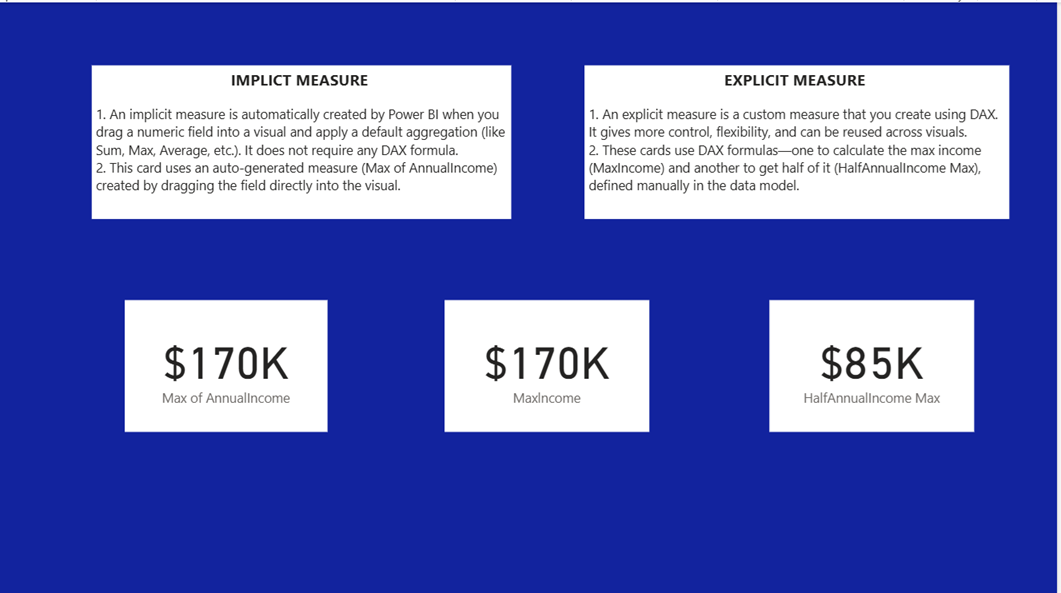

The page's visual inventory and layout, read from the dashboard file:
{"tool":"powerbi","page":{"name":"IMPLICIT & EXPLICIT","canvas":[1280,720],"ordinal":2},"visuals":[{"type":"card","fields":{"Values":["Max(Customers Table.AnnualIncome)"]},"box":[154.4,359.5,244.9,159.3],"z":0},{"type":"card","fields":{"Values":["Customers Table.MaxIncome"]},"box":[540.5,359.5,247.3,159.3],"z":1000},{"type":"card","fields":{"Values":["Customers Table.HalfAnnualIncome Max"]},"box":[932.6,359.5,247.3,159.3],"z":2000},{"type":"textbox","box":[114.6,76,506.7,185.8],"z":3000},{"type":"textbox","box":[709.4,76,512.7,185.8],"z":4000}]}

Visuals, with their boxes in screenshot pixels (x1, y1, x2, y2), scaled from the page's 1280x720 canvas onto the 1061x593 screenshot:
card - Max(Customers Table.AnnualIncome): (128, 296, 331, 427)
card - Customers Table.MaxIncome: (448, 296, 653, 427)
card - Customers Table.HalfAnnualIncome Max: (773, 296, 978, 427)
textbox: (95, 63, 515, 216)
textbox: (588, 63, 1013, 216)
